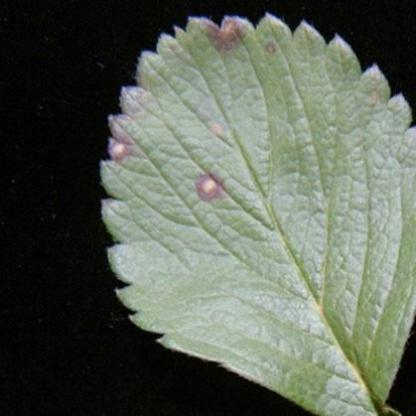Strawberry_Leaf_Spot: (100, 10, 416, 416)
